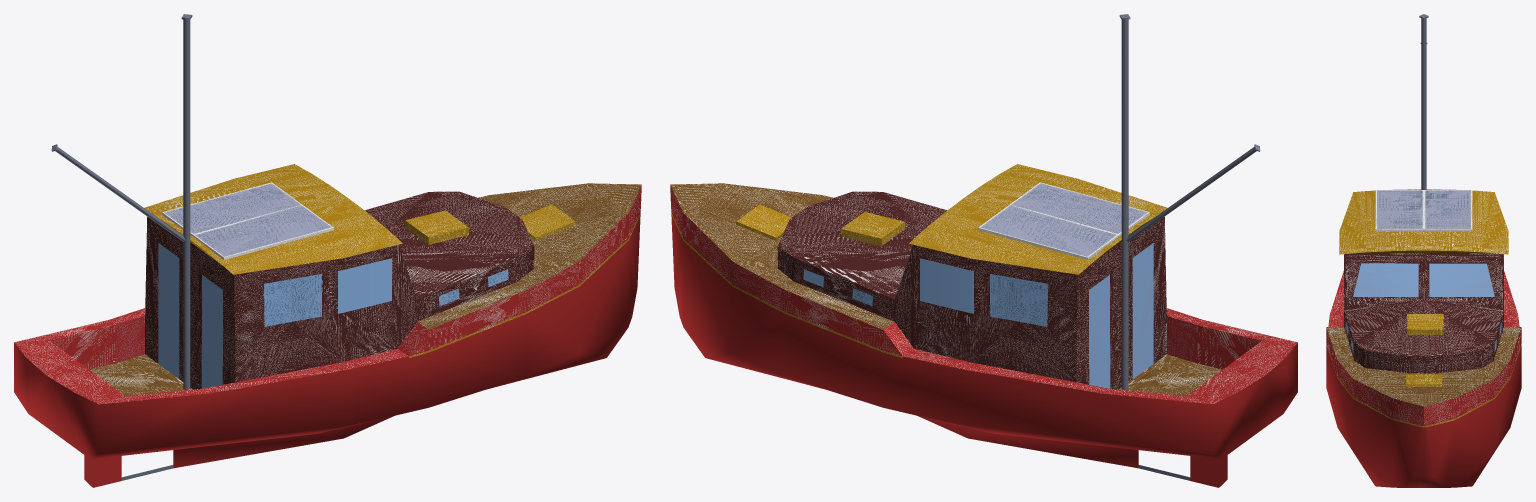
3 views of the same model, side by side, from view 1: azimuth 30°, elevation 25°; view 2: azimuth 150°, elevation 25°; view 3: azimuth 270°, elevation 25° (orthographic). The views are drawn at different scales.
Visible parts, largest first — view 1: boat_half (×16), Panel (×2), group_0 (×2), boat_hatch (×2), rudder, Structure; view 2: boat_half (×16), Panel (×2), group_0 (×2), boat_hatch (×2), rudder, Structure; view 3: boat_half (×14), Panel (×2), boat_hatch (×2), group_0, Structure (×2).
Boxes of the visible parts, x1,y1,x2,y2 form: boat_half (×16): (14,164,641,468); Panel (×2): (164,183,330,256); group_0 (×2): (55,19,190,389); boat_hatch (×2): (405,204,575,244); rudder: (84,455,121,487); Structure: (192,204,333,259); boat_half (×16): (670,164,1297,468); Panel (×2): (981,183,1147,256); group_0 (×2): (1121,19,1256,389); boat_hatch (×2): (736,204,904,246); rudder: (1190,455,1227,487); Structure: (978,204,1119,259); boat_half (×14): (1326,189,1521,487); Panel (×2): (1377,190,1470,228); boat_hatch (×2): (1406,314,1443,386); group_0: (1421,18,1426,189); Structure (×2): (1375,190,1472,231).
Size of the model in its own units: 339 by 124 by 250.
14 materials, 4 textured.
